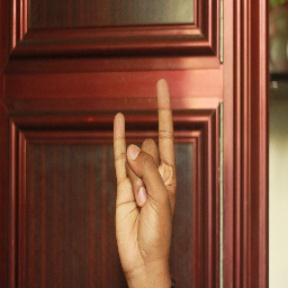V: (110, 77, 184, 262)
